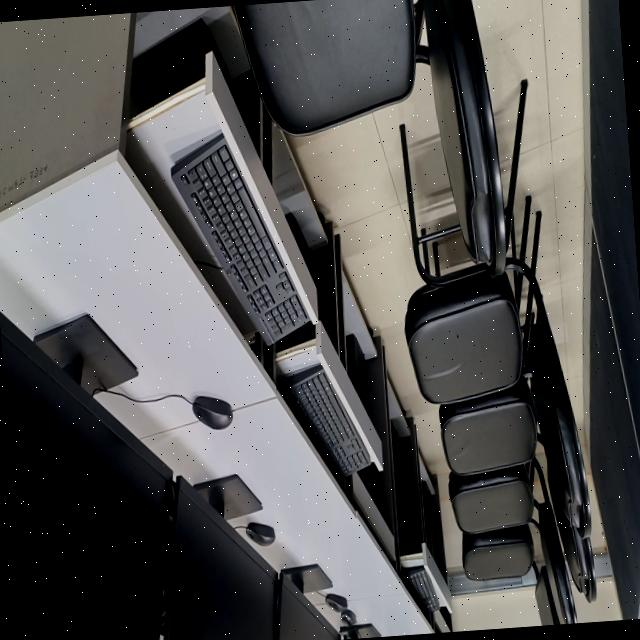Chair: (233, 0, 508, 273), (405, 196, 591, 538), (437, 381, 598, 602), (448, 458, 577, 624), (462, 523, 559, 625)
Cpu: (130, 19, 230, 118), (346, 335, 369, 412), (285, 213, 309, 266)
Keyboard: (171, 135, 309, 342), (289, 367, 370, 474), (404, 567, 439, 612)
Monitor: (0, 312, 172, 640), (164, 474, 280, 640), (277, 564, 340, 640), (340, 624, 380, 639)
Mouse: (192, 396, 232, 430), (245, 522, 275, 546), (325, 593, 347, 613), (341, 609, 355, 626)
